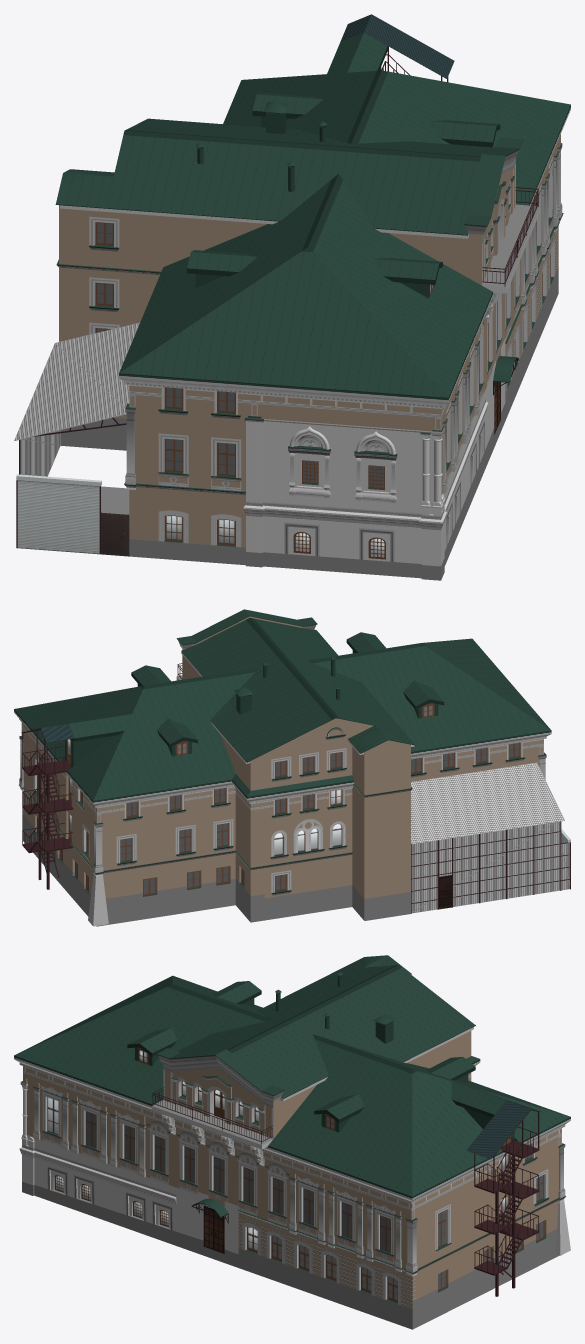
3 views of the same model, one above another, from view 1: azimuth 30°, elevation 25°; view 2: azimuth 150°, elevation 25°; view 3: azimuth 270°, elevation 25° (orthographic). The views are drawn at different scales.
Visible parts, largest first — view 1: 01020-50@30095; view 2: 01020-50@30095; view 3: 01020-50@30095.
Boxes of the visible parts, x1,y1,x2,y2 form: 01020-50@30095: [14, 14, 570, 580]; 01020-50@30095: [14, 609, 570, 926]; 01020-50@30095: [14, 955, 570, 1329].
Bounding box in the file's own units: 35.81 × 14.41 × 34.45.
1 material, 1 textured.
